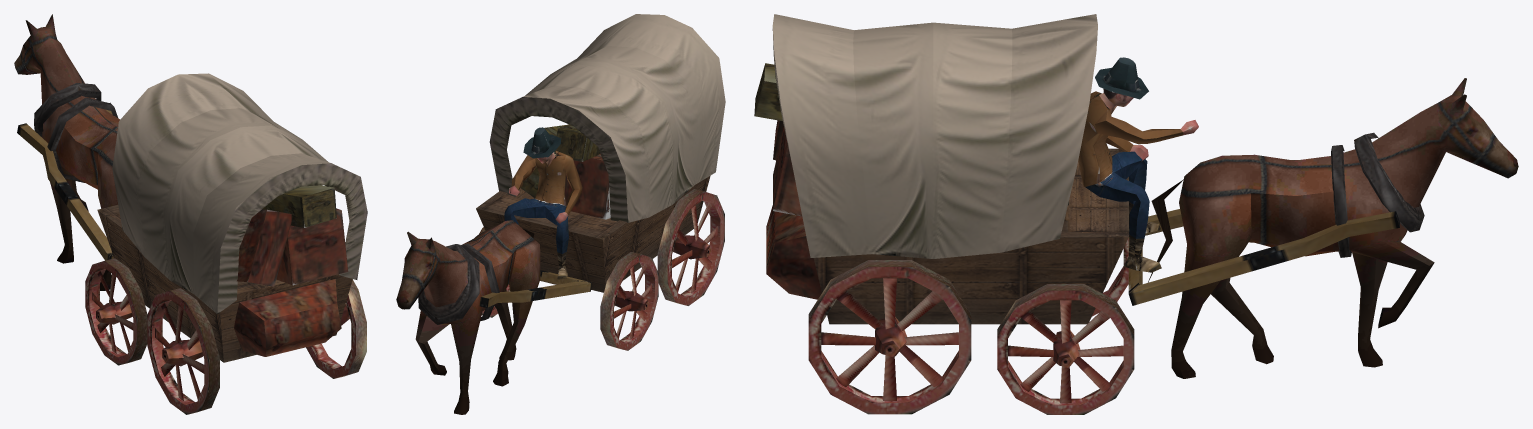
The model's file is Settlers.glb.
3 renders of one model, left to right at view 1: azimuth 30°, elevation 25°; view 2: azimuth 150°, elevation 25°; view 3: azimuth 270°, elevation 25°, orthographic. The views are drawn at different scales.
Visible parts, largest first — view 1: SettlerExport; view 2: SettlerExport; view 3: SettlerExport.
Boxes of the visible parts, box(x1,y1,x2,y2) form: SettlerExport: box(14, 14, 367, 414); SettlerExport: box(396, 14, 725, 414); SettlerExport: box(754, 14, 1518, 414).
Size of the model in its own units: 2.09 by 2.84 by 5.74.
2 materials, 2 textured.
